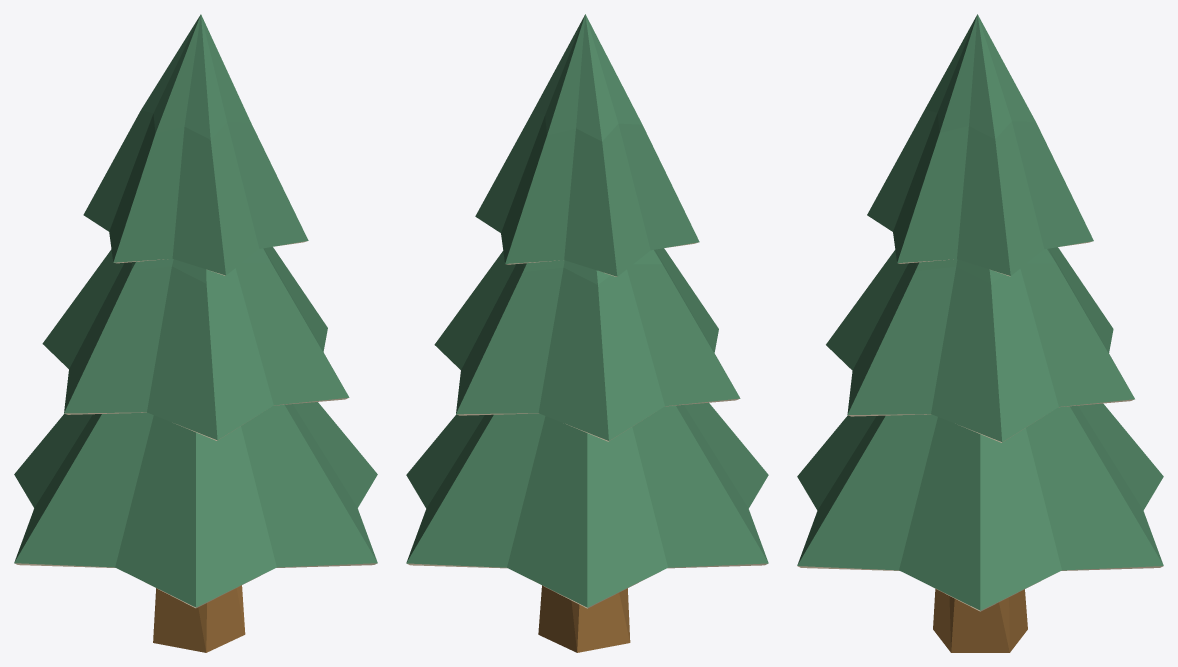
3 views of the same model, side by side, from view 1: azimuth 30°, elevation 25°; view 2: azimuth 150°, elevation 25°; view 3: azimuth 270°, elevation 25° (orthographic).
Visible parts, largest first — view 1: Tree_Pine_A_Geometry; view 2: Tree_Pine_A_Geometry; view 3: Tree_Pine_A_Geometry.
Part boxes in pixels (x1,y1,x2,y2): Tree_Pine_A_Geometry: (14, 14, 377, 652); Tree_Pine_A_Geometry: (406, 14, 768, 652); Tree_Pine_A_Geometry: (797, 14, 1163, 652).
Bounding box in the file's own units: 1.42 × 2.3 × 1.23.
